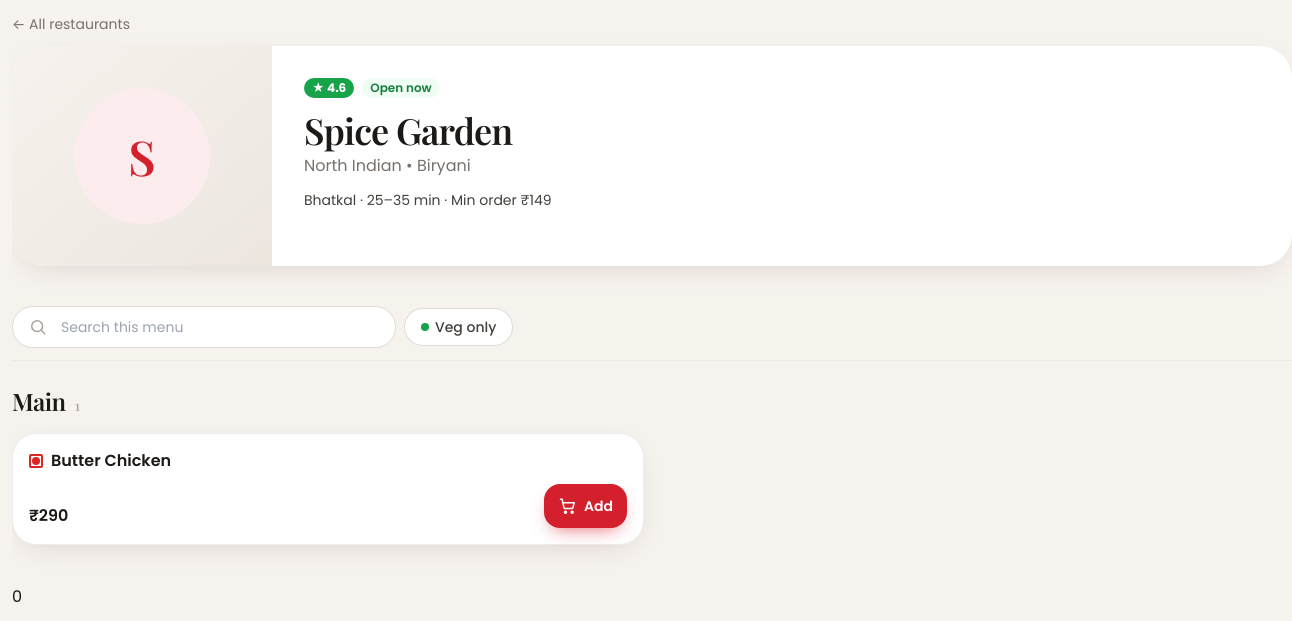
Test: browse › adds a plain dish to the cart and shows the count
Click the button with aria-label "Add Butter Chicken". click: point(586, 506)
box: [544, 484, 627, 528]
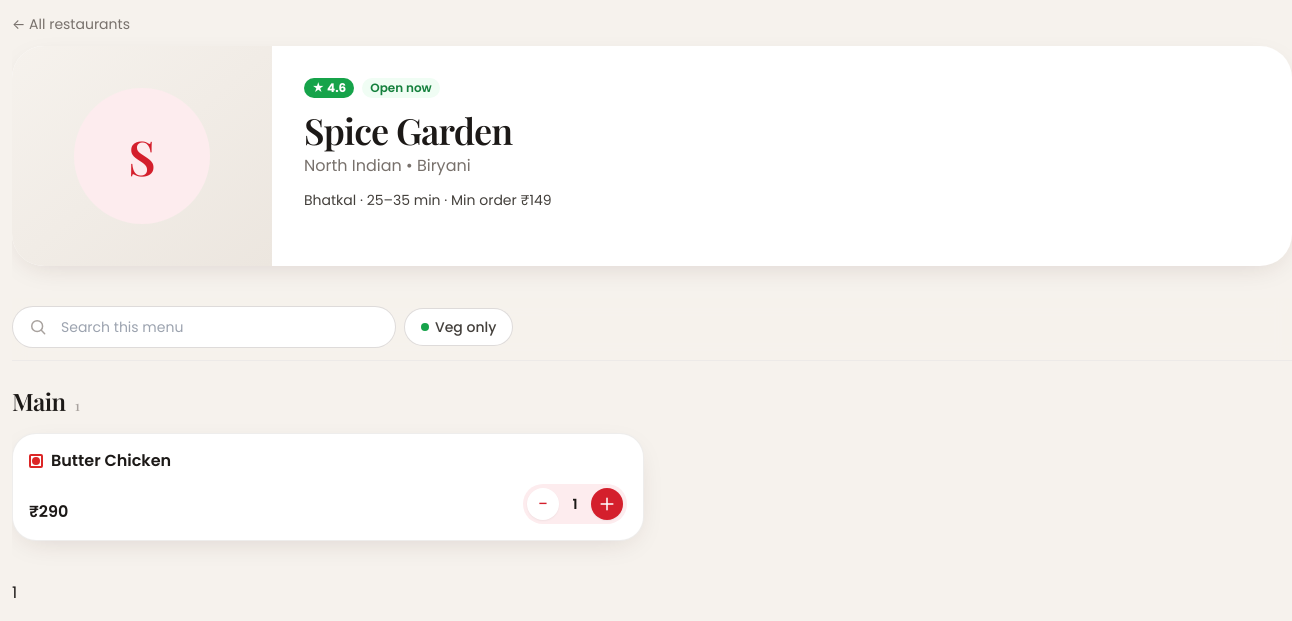
Check: the text with test id "count" reads "1", box [12, 581, 17, 604]
